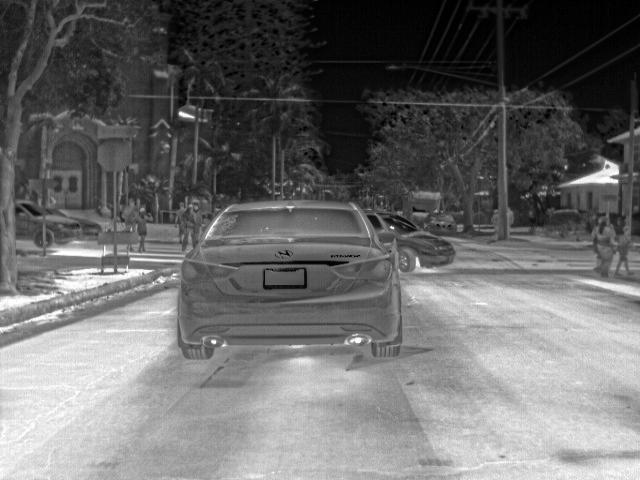car: (177, 199, 405, 359), (365, 210, 456, 272), (46, 209, 83, 248), (15, 200, 42, 248), (420, 212, 456, 234), (74, 218, 103, 240)
person: (591, 215, 619, 278), (135, 206, 155, 252), (615, 226, 634, 273), (187, 200, 205, 248), (176, 200, 188, 248), (505, 204, 517, 230), (489, 208, 501, 234)
